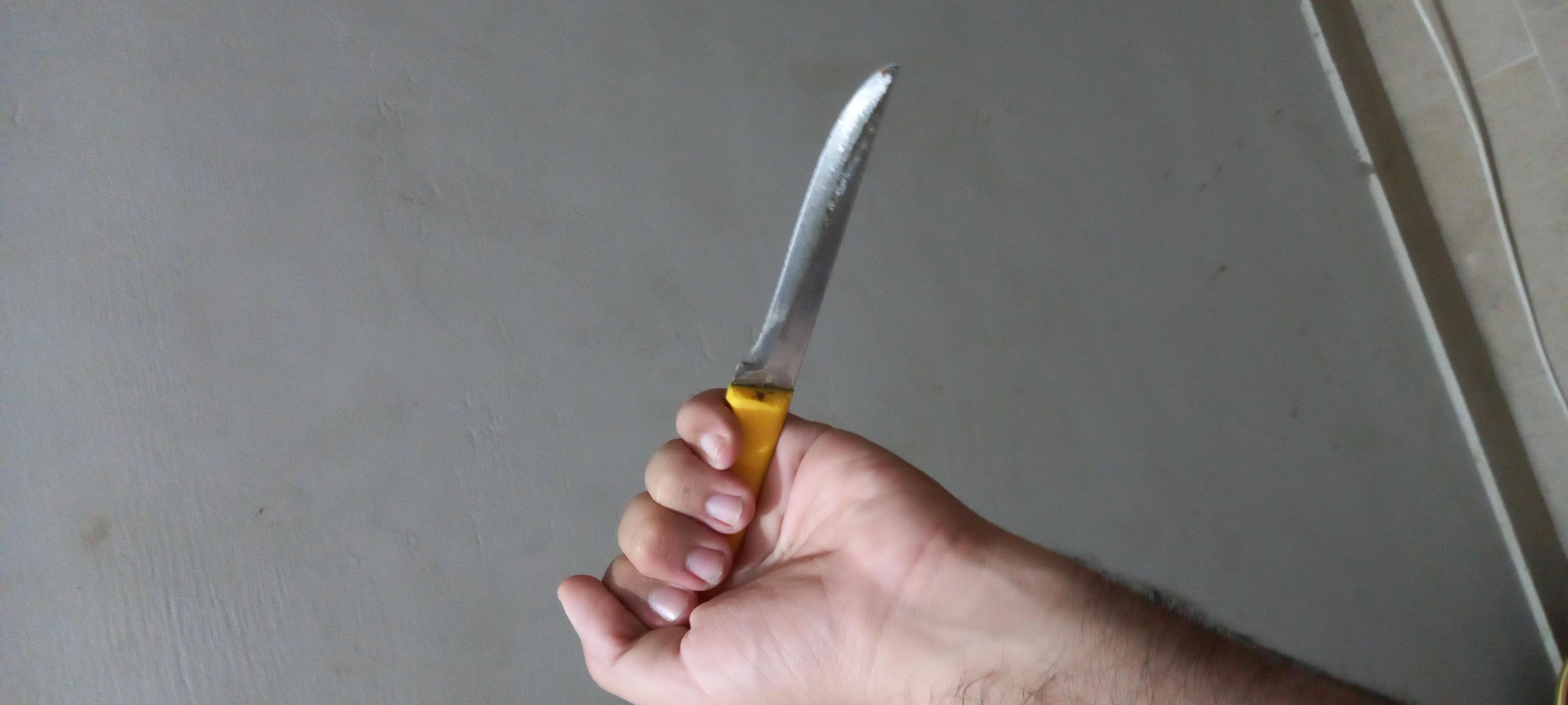knives: (16, 247, 1469, 441)
